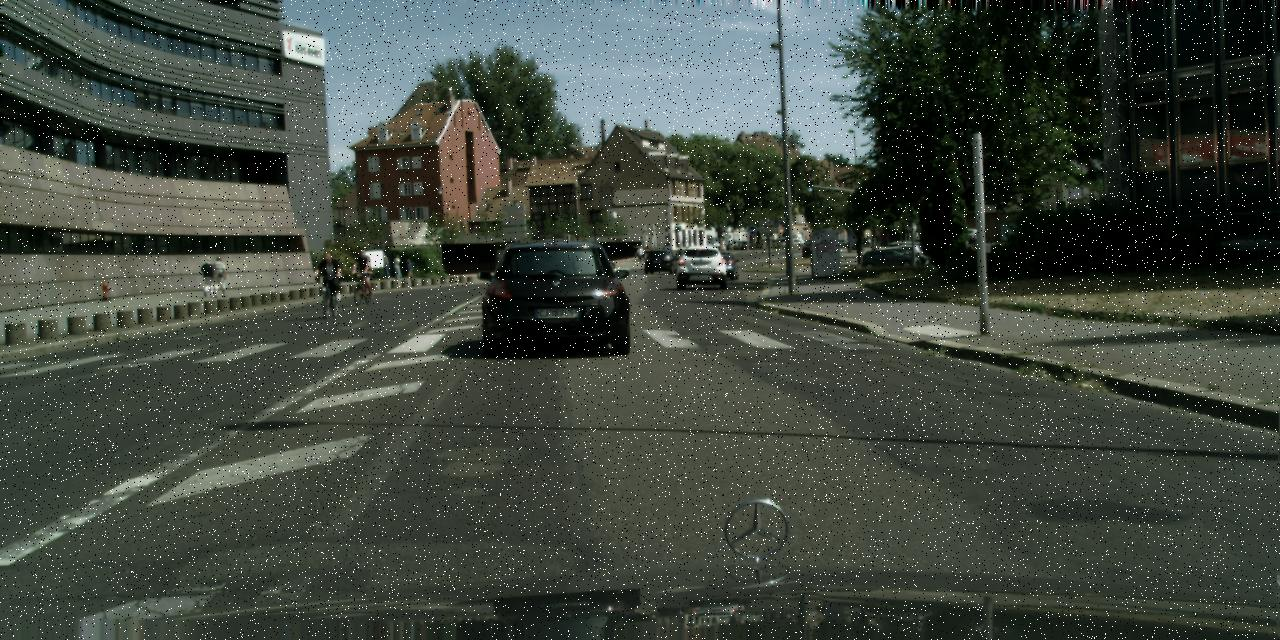ped: (318, 250, 340, 304), (354, 248, 373, 298), (200, 255, 216, 297), (211, 257, 227, 297), (378, 251, 389, 278), (393, 254, 403, 278), (405, 258, 413, 279), (637, 246, 643, 262), (644, 243, 650, 258)
